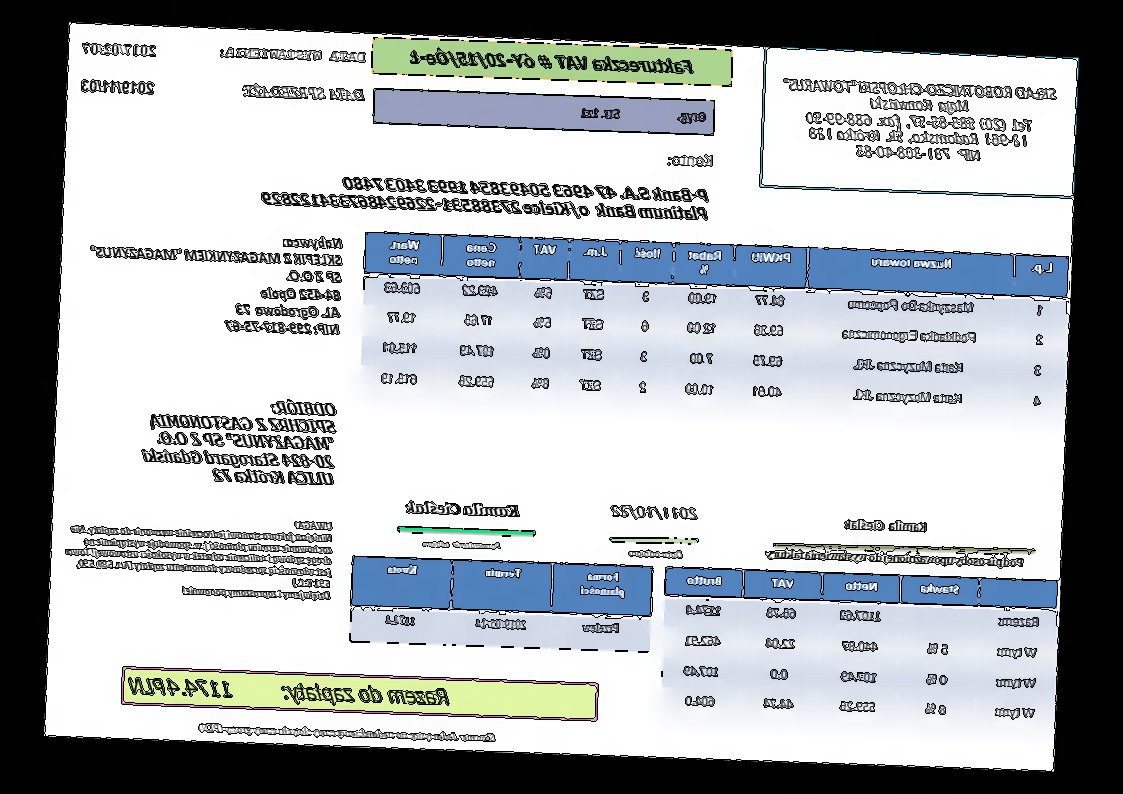Table: (359, 230, 1070, 421), (658, 565, 1059, 731), (349, 554, 654, 654)
TextBox: (85, 226, 345, 339), (778, 75, 1059, 166), (60, 511, 335, 603), (261, 170, 712, 223), (138, 394, 338, 488), (125, 671, 452, 710), (407, 46, 696, 79), (196, 718, 497, 746), (763, 545, 1027, 572), (217, 44, 370, 66), (580, 104, 709, 127), (239, 81, 367, 103), (402, 497, 521, 520), (609, 501, 700, 522), (80, 38, 158, 61), (79, 76, 157, 97), (843, 517, 930, 535), (422, 537, 503, 552), (666, 151, 716, 171), (628, 547, 685, 562)
